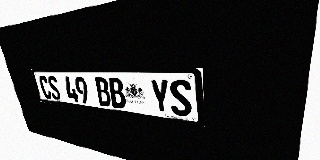4: (63, 76, 80, 103)
9: (74, 76, 91, 104)
B: (107, 77, 127, 109), (94, 77, 112, 107)
C: (38, 76, 53, 99)
S: (169, 79, 192, 117), (46, 76, 62, 101)
Y: (149, 79, 171, 115)
